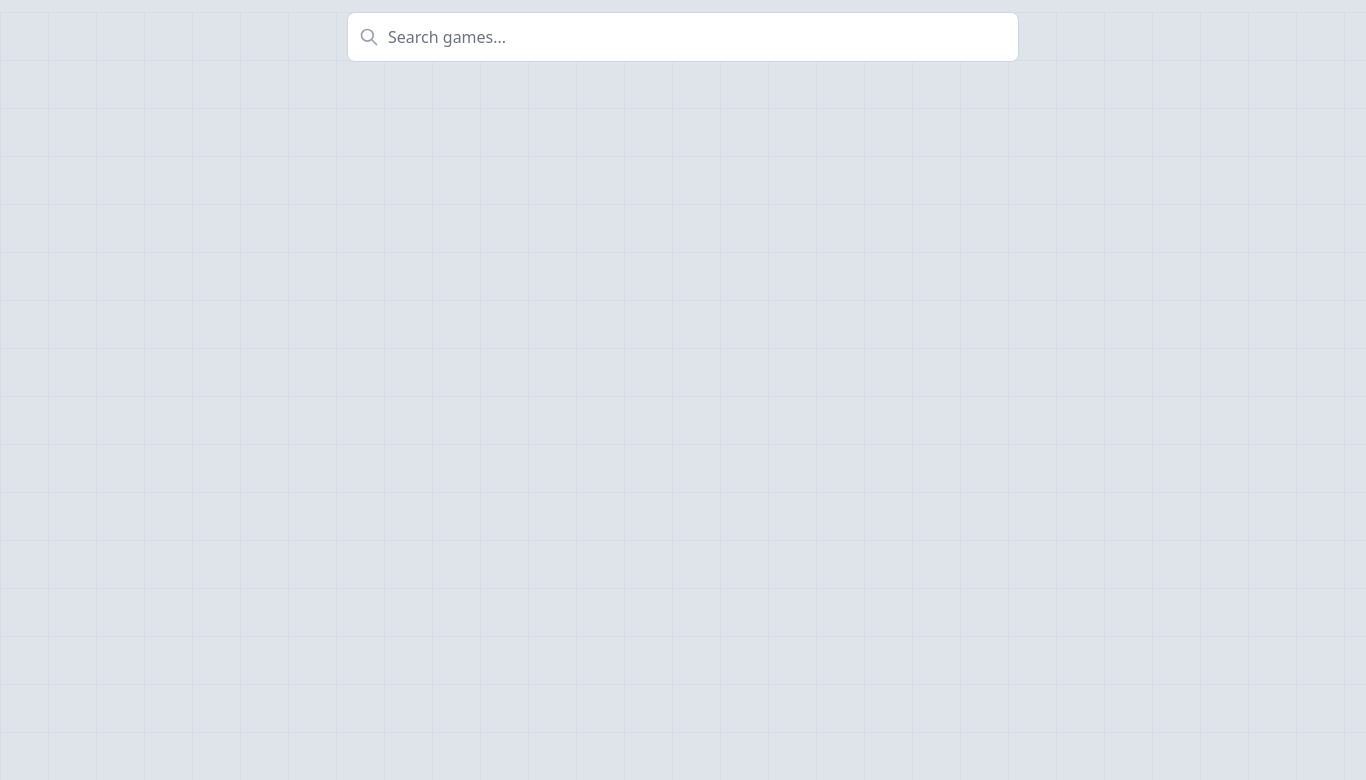
SearchBar › displays current search query
The image size is (1366, 780).
# Type something
In the field labelled "Search games...": x=683, y=37 [347,12,1019,62], type "puzzle"
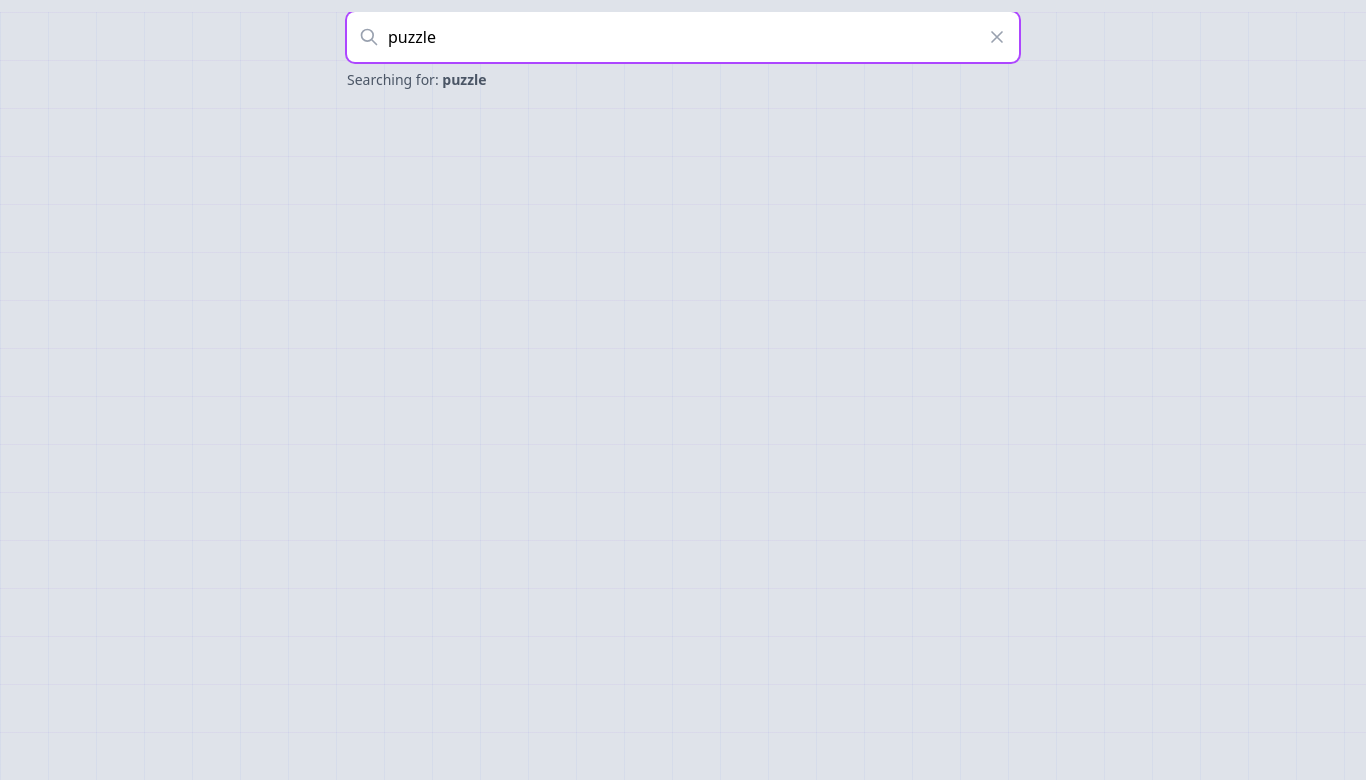
Expected: the text "Searching for: puzzle" is shown, [347,70,487,89]
Expected: the text "puzzle" is shown, [442,70,487,89]
